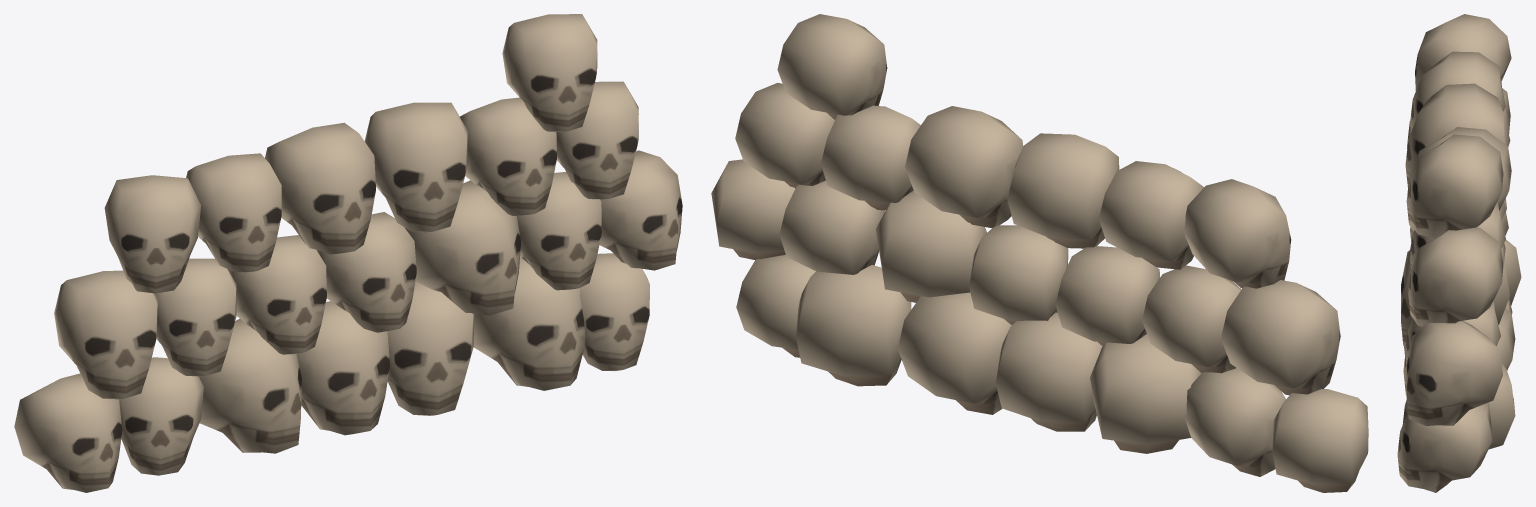
File: crypt_skull_heap_a.gltf
The picture shows the model from 3 angles, left to right: view 1: azimuth 30°, elevation 25°; view 2: azimuth 150°, elevation 25°; view 3: azimuth 270°, elevation 25°; orthographic projection. The views are drawn at different scales.
Visible parts, largest first — view 1: crypt_skull_heap_a; view 2: crypt_skull_heap_a; view 3: crypt_skull_heap_a.
Part boxes in pixels (x1,y1,x2,y2): crypt_skull_heap_a: (14,14,682,492); crypt_skull_heap_a: (711,14,1368,492); crypt_skull_heap_a: (1397,14,1521,492).
Bounding box in the file's own units: 2.11 × 1.12 × 0.3809.
1 material, 1 textured.
